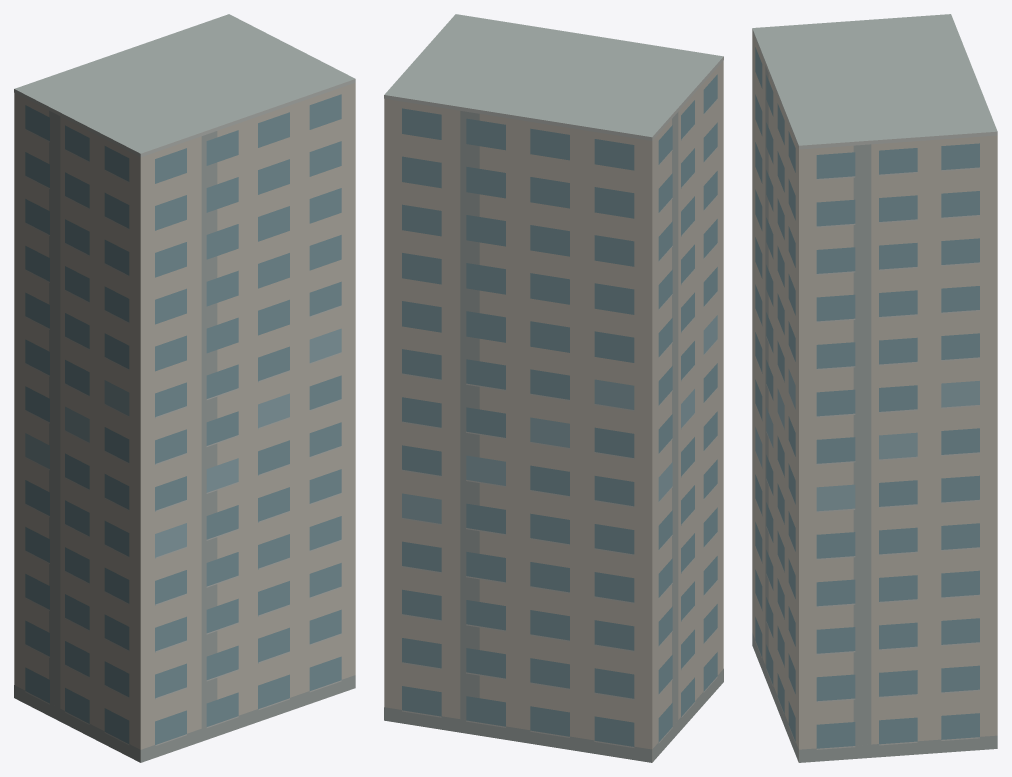
Rendered from residential-21f2e0d2-5b9b-401c-9a96-74f849b734ae.glb.
3 views of the same model, side by side, from view 1: azimuth 30°, elevation 25°; view 2: azimuth 150°, elevation 25°; view 3: azimuth 270°, elevation 25° (orthographic). The views are drawn at different scales.
Parts seen in each view (by area): view 1: residential-21f2e0d2-5b9b-401c-9a96-74f849b734ae.tmp; view 2: residential-21f2e0d2-5b9b-401c-9a96-74f849b734ae.tmp; view 3: residential-21f2e0d2-5b9b-401c-9a96-74f849b734ae.tmp.
Boxes of the visible parts, x1,y1,x2,y2 form: residential-21f2e0d2-5b9b-401c-9a96-74f849b734ae.tmp: (14,14,355,762); residential-21f2e0d2-5b9b-401c-9a96-74f849b734ae.tmp: (384,14,723,762); residential-21f2e0d2-5b9b-401c-9a96-74f849b734ae.tmp: (752,14,997,762).
Bounding box in the file's own units: 18.32 × 40 × 14.43.
